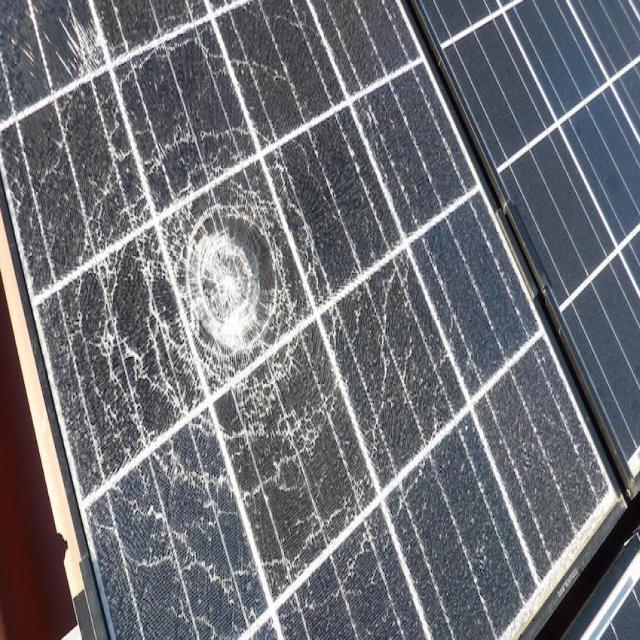cracked: (3, 1, 614, 638)
